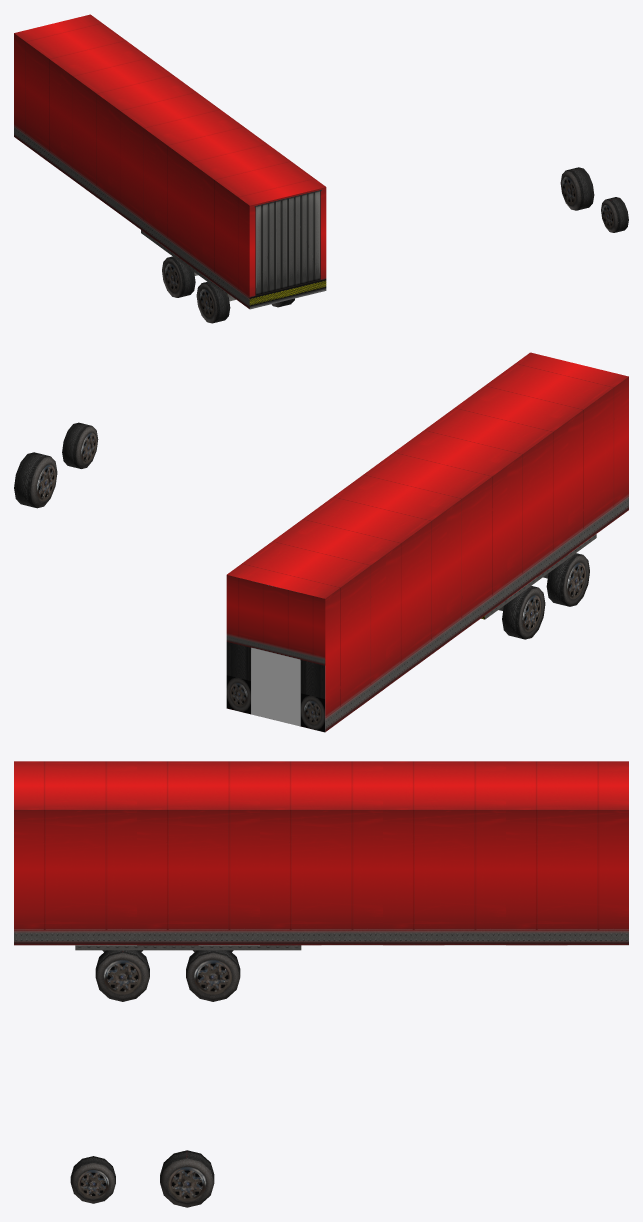
The model's file is Trailer.FBX.
3 views of the same model, one above another, from view 1: azimuth 30°, elevation 25°; view 2: azimuth 150°, elevation 25°; view 3: azimuth 270°, elevation 25° (orthographic). The views are drawn at different scales.
Parts seen in each view (by area): view 1: Box01, Tire_Original02, Tire_Trailer01, Tire_Trailer03, Tire_Original; view 2: Box01, Tire_Original02, Tire_Trailer03, Tire_Trailer01, Tire_Original, Box03; view 3: Box01, Tire_Original02, Tire_Trailer02, Tire_Trailer04, Tire_Original, Box03.
Boxes of the visible parts, x1=… form: Box01: x1=14, y1=14, x2=326, y2=309; Tire_Original02: x1=560, y1=167, x2=594, y2=210; Tire_Trailer01: x1=196, y1=282, x2=230, y2=323; Tire_Trailer03: x1=162, y1=256, x2=195, y2=297; Tire_Original: x1=601, y1=197, x2=628, y2=232; Box01: x1=226, y1=352, x2=628, y2=732; Tire_Original02: x1=14, y1=452, x2=57, y2=508; Tire_Trailer03: x1=502, y1=586, x2=545, y2=639; Tire_Trailer01: x1=546, y1=553, x2=589, y2=606; Tire_Original: x1=62, y1=422, x2=98, y2=468; Box03: x1=481, y1=534, x2=596, y2=619; Box01: x1=14, y1=761, x2=628, y2=945; Tire_Original02: x1=160, y1=1150, x2=214, y2=1207; Tire_Trailer02: x1=95, y1=950, x2=149, y2=1001; Tire_Trailer04: x1=186, y1=950, x2=240, y2=1001; Tire_Original: x1=70, y1=1156, x2=115, y2=1203; Box03: x1=75, y1=945, x2=301, y2=950.
Bounding box in the file's own units: 13.44 × 13.6 × 4.68.
